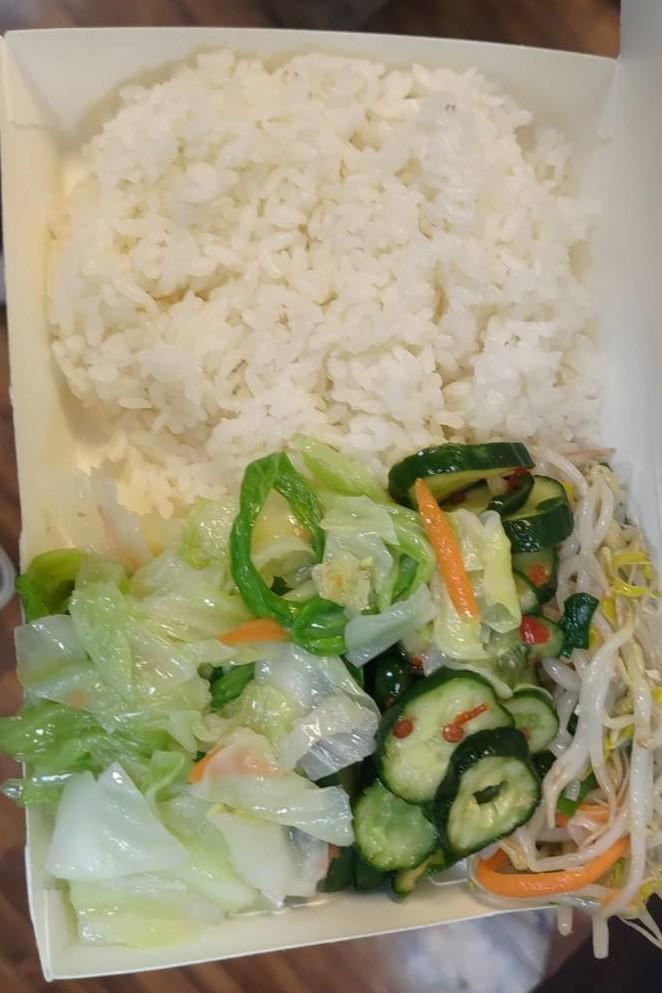big herbal chicken leg: (42, 56, 602, 458)
braised fish fillet: (0, 10, 662, 978), (18, 538, 341, 946), (357, 439, 573, 907), (535, 440, 662, 909)
